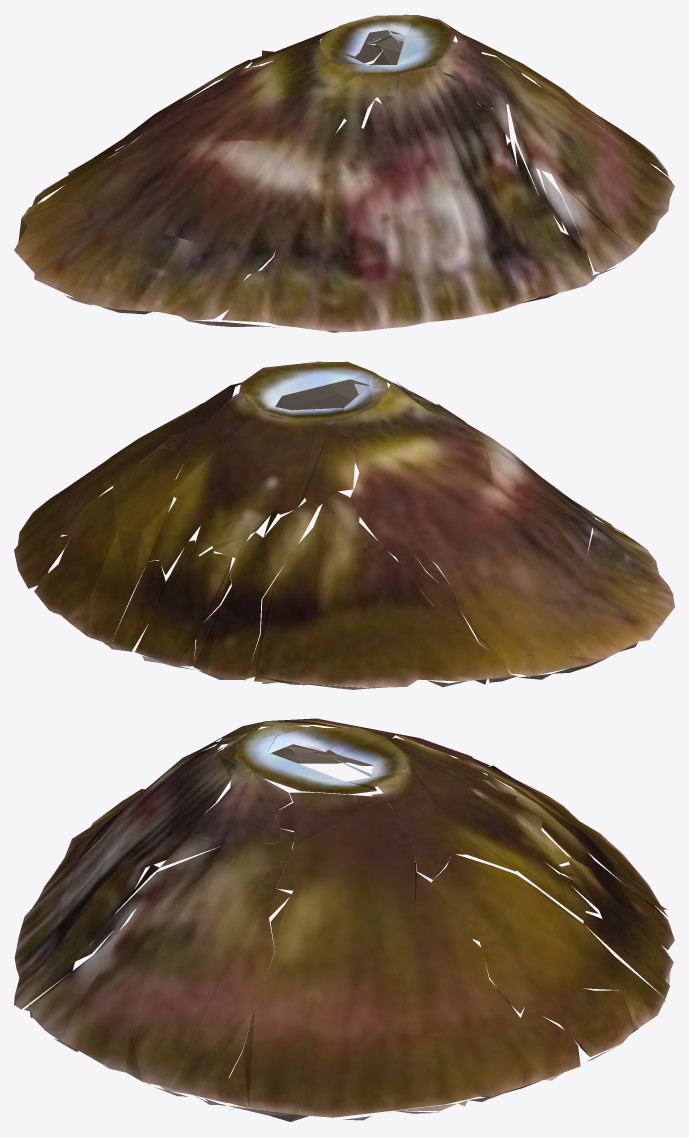
The model's file is fissurella.glb.
The picture shows the model from 3 angles, top to bottom: view 1: azimuth 30°, elevation 25°; view 2: azimuth 150°, elevation 25°; view 3: azimuth 270°, elevation 25°; orthographic projection. The views are drawn at different scales.
Parts seen in each view (by area): view 1: geometry_0; view 2: geometry_0; view 3: geometry_0.
Part boxes in pixels (bbox=[...]): geometry_0: bbox=[14, 14, 674, 332]; geometry_0: bbox=[14, 361, 674, 689]; geometry_0: bbox=[14, 718, 674, 1121].
Size of the model in its own units: 2 by 0.5636 by 1.55.
Materials: 1 (1 with a texture image).
